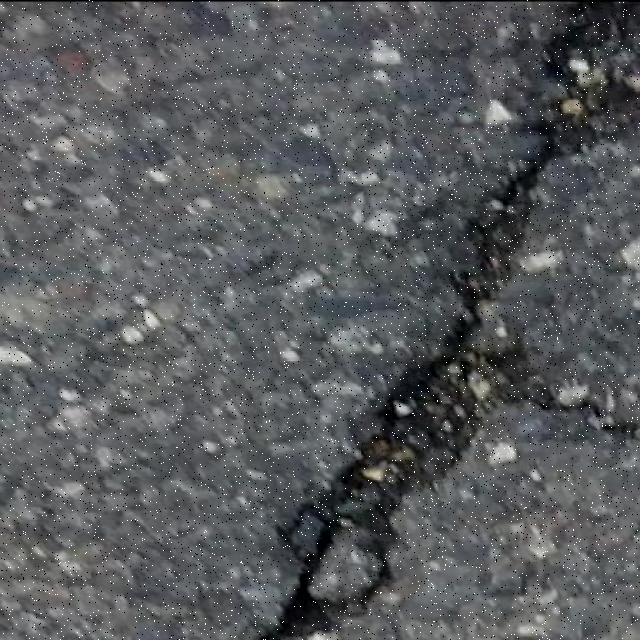Crack: (257, 13, 640, 640), (575, 406, 639, 439)
